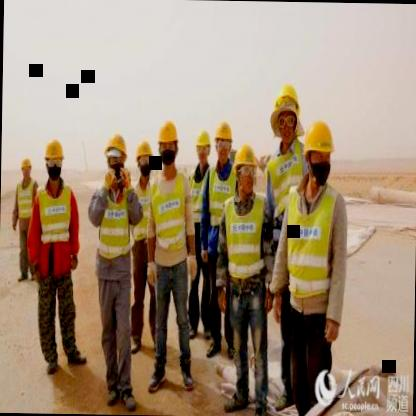helmet: (300, 114, 336, 192), (269, 78, 304, 150), (230, 138, 260, 204), (155, 114, 180, 168), (102, 130, 128, 178), (42, 134, 66, 185), (212, 118, 234, 166), (132, 136, 154, 180), (195, 130, 212, 165), (18, 155, 33, 187)
